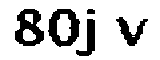0: (47, 8, 80, 49)
8: (12, 8, 45, 49)
j: (78, 6, 103, 60)
v: (117, 14, 151, 49)
